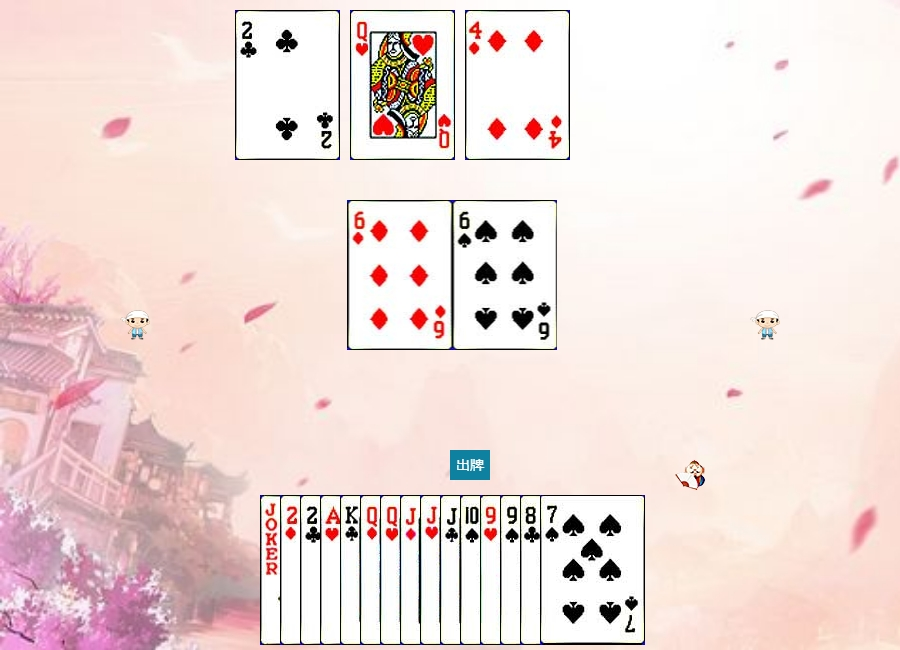10~4: (460, 495, 565, 645)
11~1: (400, 495, 505, 645)
11~2: (440, 495, 545, 645)
11~3: (420, 495, 525, 645)
12~1: (360, 495, 465, 645)
12~3: (350, 10, 455, 160), (380, 495, 485, 645)
13~2: (340, 495, 445, 645)
14~3: (320, 495, 425, 645)
15~1: (280, 495, 385, 645)
15~2: (235, 10, 340, 160), (300, 495, 405, 645)
18~4: (260, 495, 365, 645)
4~1: (465, 10, 570, 160)
6~1: (348, 200, 453, 350)
6~4: (453, 200, 558, 350)
7~4: (540, 495, 645, 645)
8~2: (520, 495, 625, 645)
9~3: (480, 495, 585, 645)
9~4: (500, 495, 605, 645)
